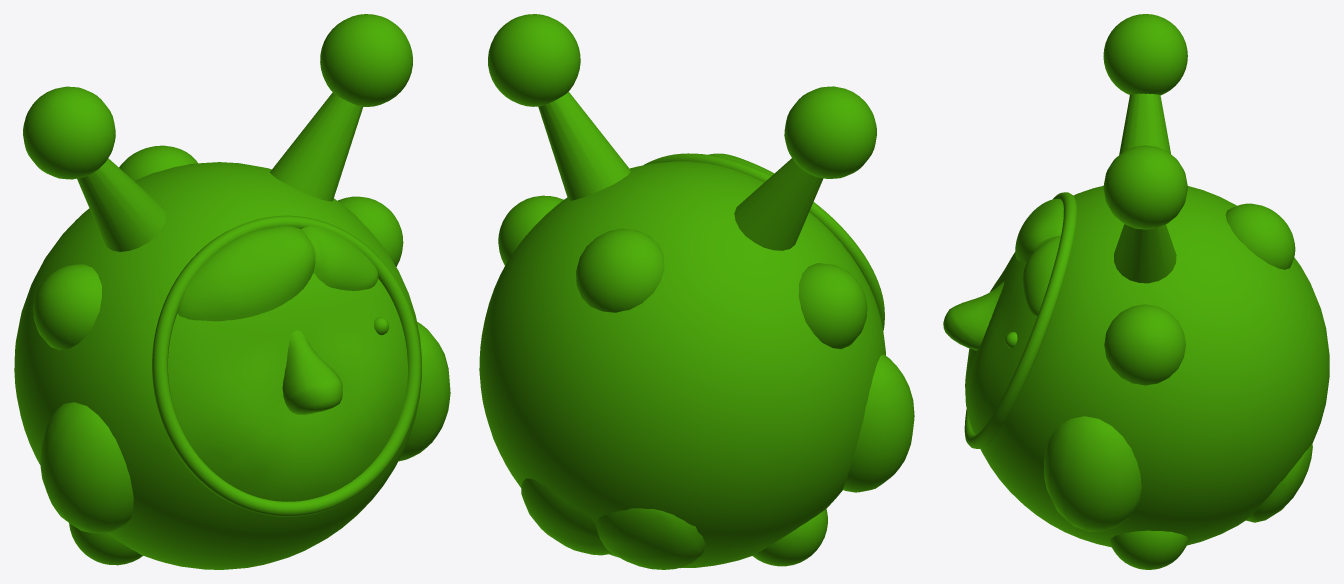
The model's file is low polyball (1).fbx.
3 views of the same model, side by side, from view 1: azimuth 30°, elevation 25°; view 2: azimuth 150°, elevation 25°; view 3: azimuth 270°, elevation 25° (orthographic). The views are drawn at different scales.
Parts seen in each view (by area): view 1: polySurface20; view 2: polySurface20; view 3: polySurface20.
Part boxes in pixels (<box>): polySurface20: <box>14,14,450,569</box>; polySurface20: <box>479,14,914,569</box>; polySurface20: <box>943,14,1329,569</box>.
Size of the model in its own units: 96.09 by 115 by 89.82.
